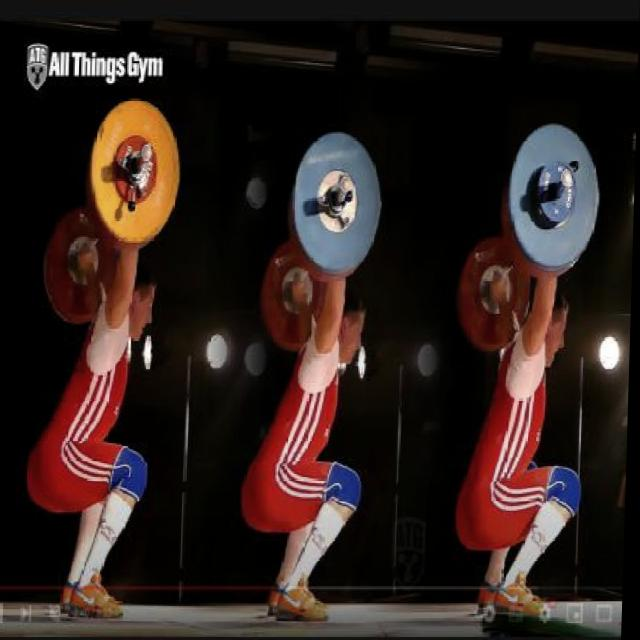barbell: (83, 96, 186, 249), (507, 118, 605, 275), (288, 131, 391, 279)
